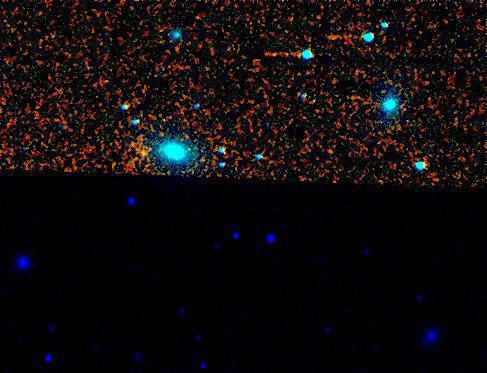star: (128, 138, 158, 168)
